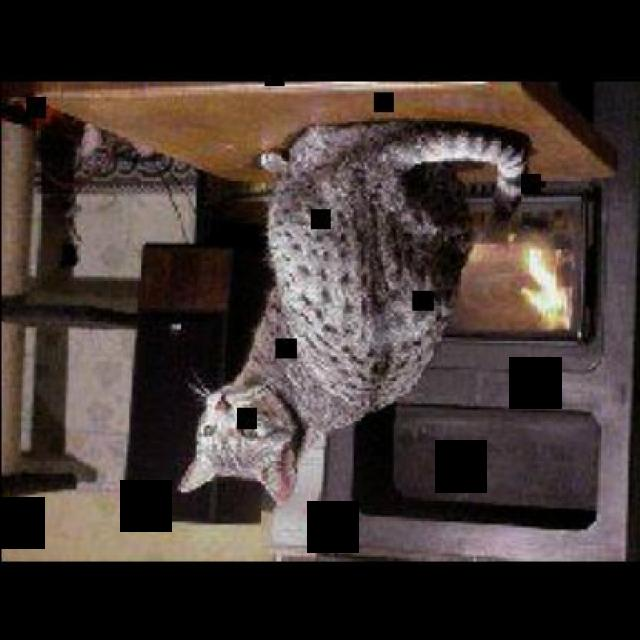unauthorized: (175, 115, 531, 508)
